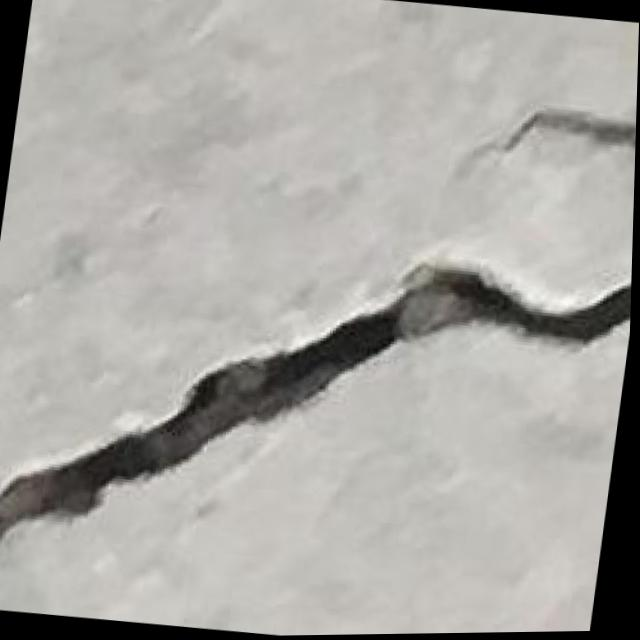Crack: (0, 186, 636, 600)
